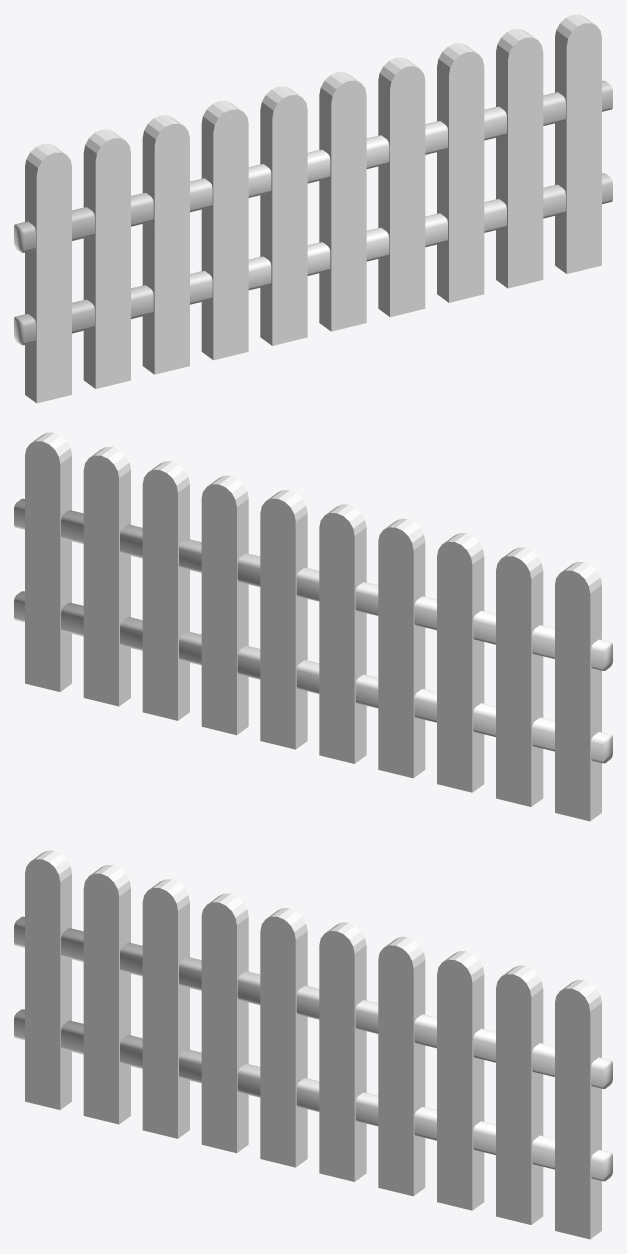
The model's file is fence.glb.
3 renders of one model, top to bottom at view 1: azimuth 30°, elevation 25°; view 2: azimuth 150°, elevation 25°; view 3: azimuth 330°, elevation 25°, orthographic.
Visible parts, largest first — view 1: Body; view 2: Body; view 3: Body.
Part boxes in pixels (left/top/right/bottom): Body: left=14, top=14, right=612, bottom=403; Body: left=14, top=432, right=612, bottom=821; Body: left=14, top=850, right=612, bottom=1239.
Bounding box in the file's own units: 2 × 0.8 × 0.07.
Materials: 1 (1 with a texture image).
